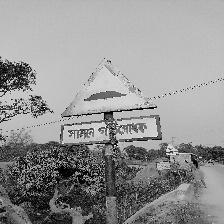Speed-breaker: (60, 59, 160, 144)
